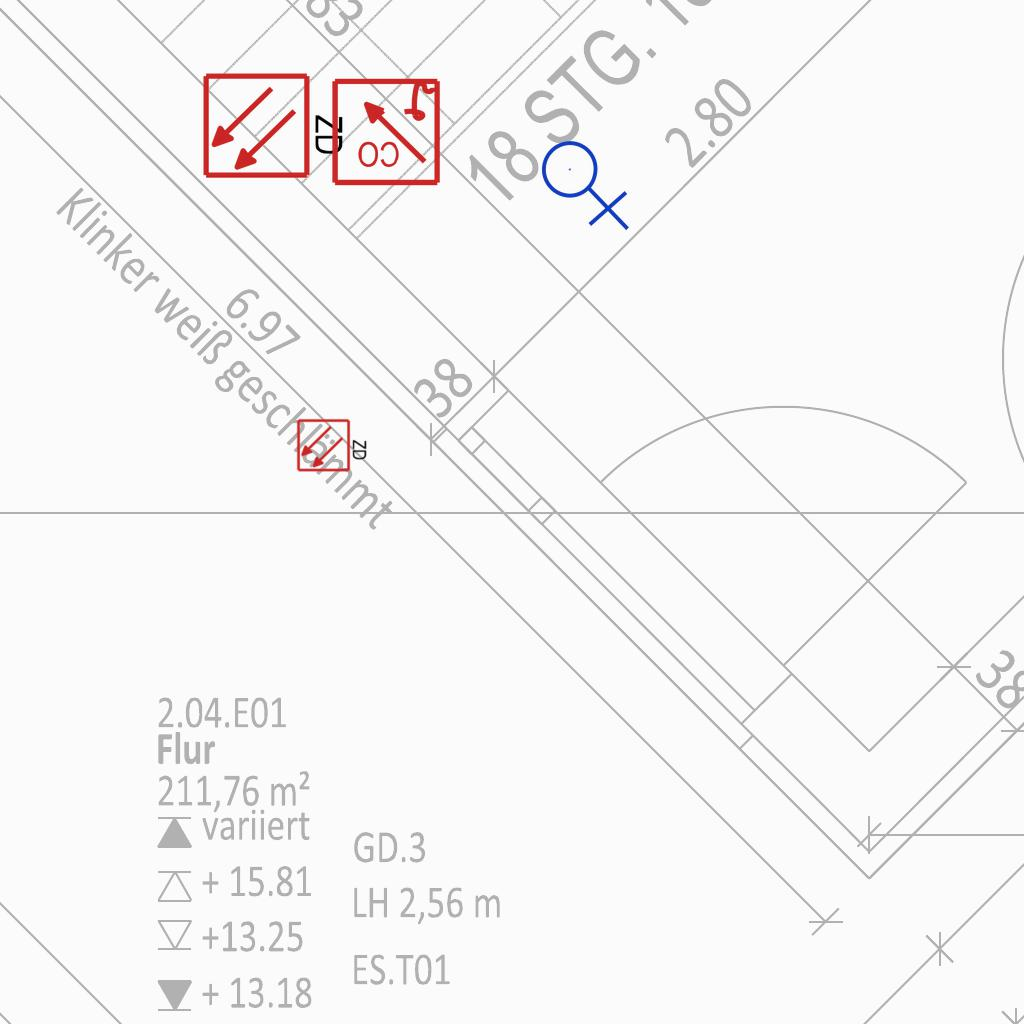Elektroanschluss_allgemein_230V_Geraeteanschlussdose_230V: (540, 132, 634, 231)
ROA_Rauchmelder_optisch_mit_Signalgeber_(Sockelsirene): (329, 74, 442, 187)
ZD_Melder_in_Zwischendecke_mit_Revisionsoeffnung_mind_40_x_40_cm: (201, 67, 350, 181), (296, 416, 370, 473)
